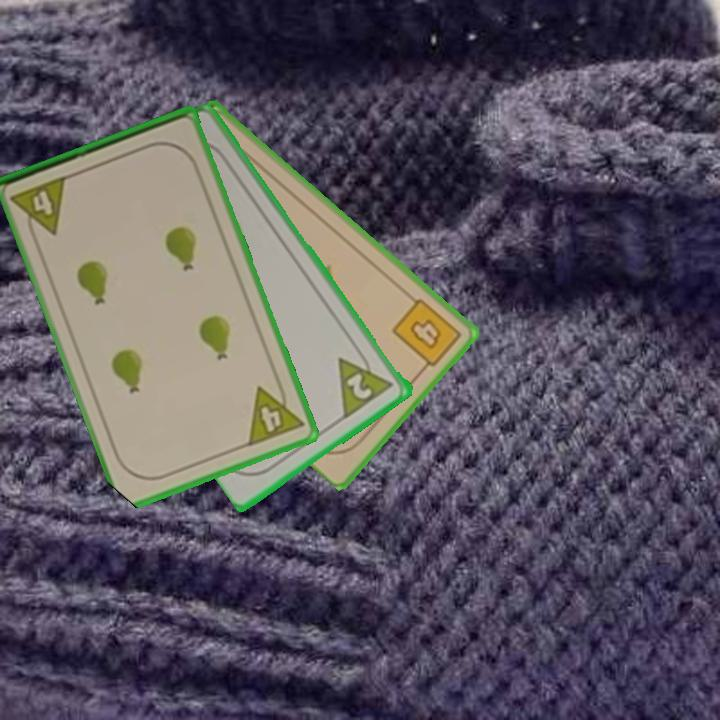2p: (334, 343, 397, 421)
4b: (388, 294, 465, 376)
4p: (244, 376, 307, 450), (9, 172, 71, 244)
